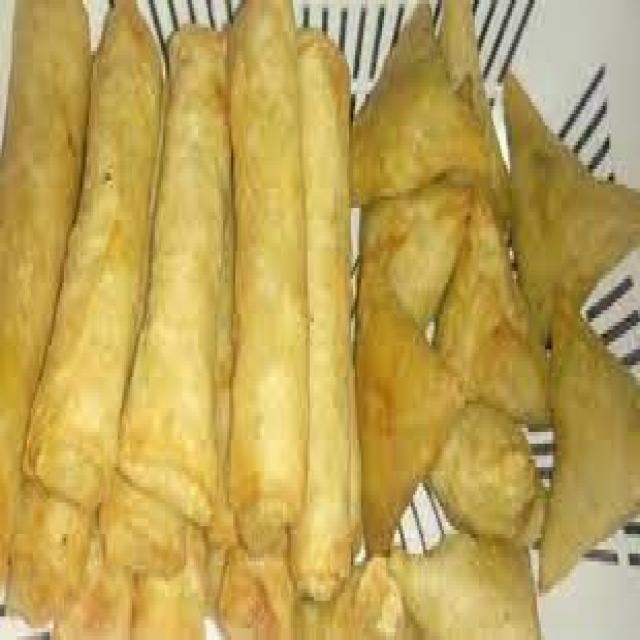Samosa: (353, 3, 640, 640)
Spring Rolls: (1, 0, 349, 640)
